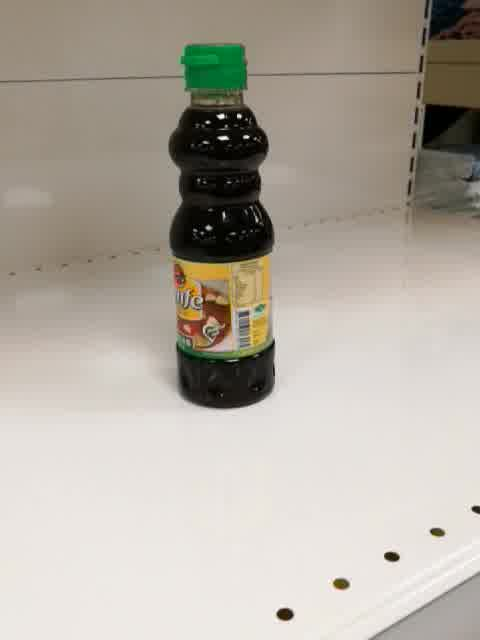cookingoil: (167, 38, 276, 411)
